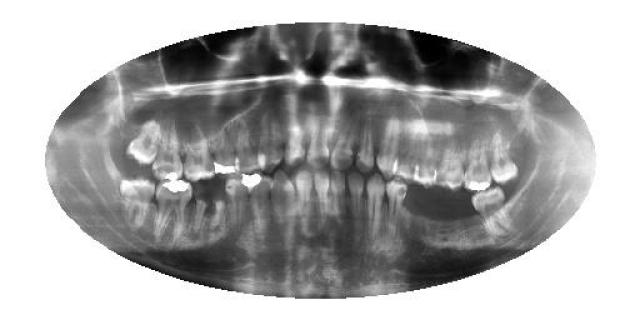Cavity: (191, 185, 211, 235), (213, 186, 225, 232)
Fillings: (156, 182, 194, 242), (154, 122, 185, 178), (249, 172, 275, 238), (214, 116, 241, 178), (464, 136, 491, 192), (228, 172, 252, 228)
